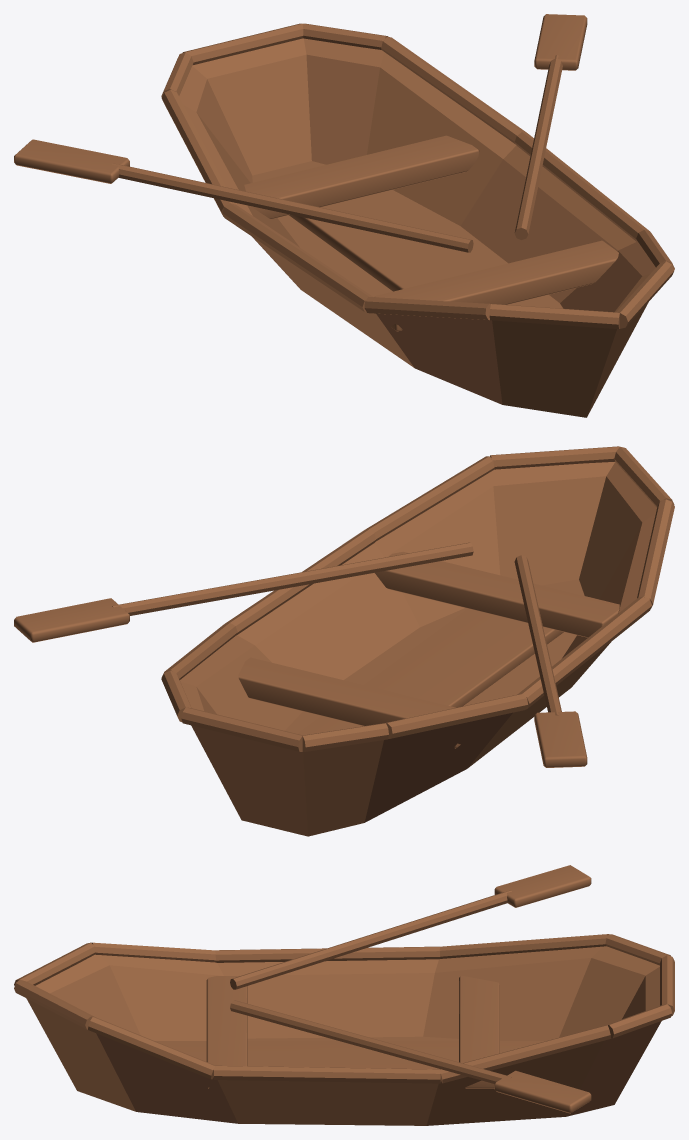
Rendered from rowboat.glb.
3 renders of one model, top to bottom at view 1: azimuth 30°, elevation 25°; view 2: azimuth 150°, elevation 25°; view 3: azimuth 270°, elevation 25°, orthographic. The views are drawn at different scales.
Visible parts, largest first — view 1: rowboat; view 2: rowboat; view 3: rowboat.
Boxes of the visible parts, left/top/right/bottom form: rowboat: left=14, top=14, right=674, bottom=417; rowboat: left=14, top=446, right=674, bottom=836; rowboat: left=14, top=865, right=674, bottom=1125.
Size of the model in its own units: 1.8 by 0.389 by 2.09.
